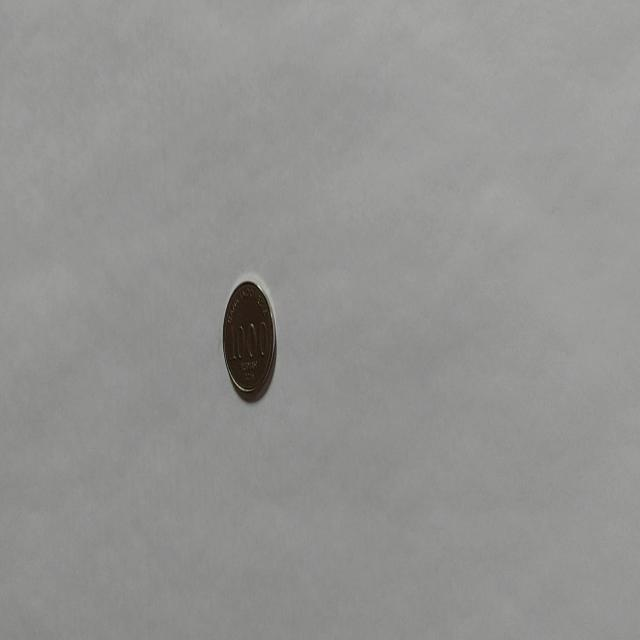seribu rupiah koin: (221, 276, 277, 402)
